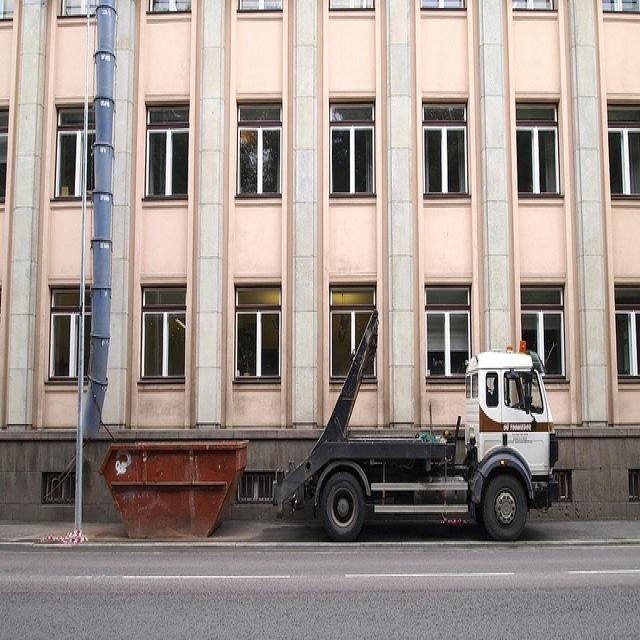truck: (275, 312, 558, 538)
